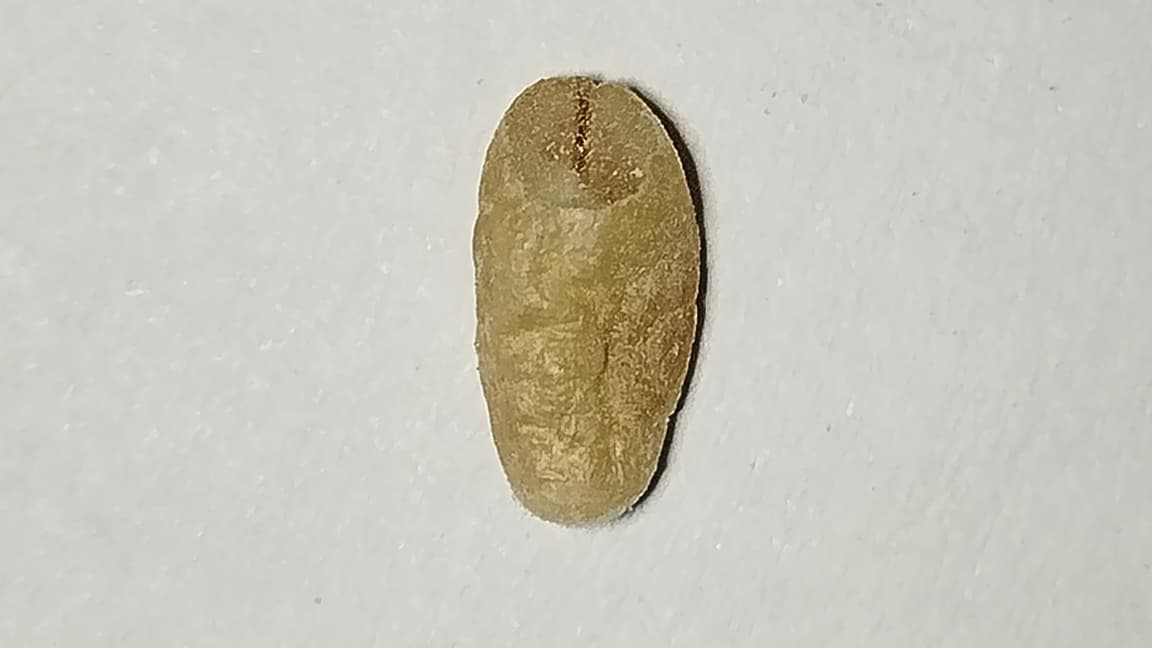damage: (473, 76, 707, 523)
insectdamage: (506, 77, 663, 208)
shriveledseed: (477, 222, 698, 497)
